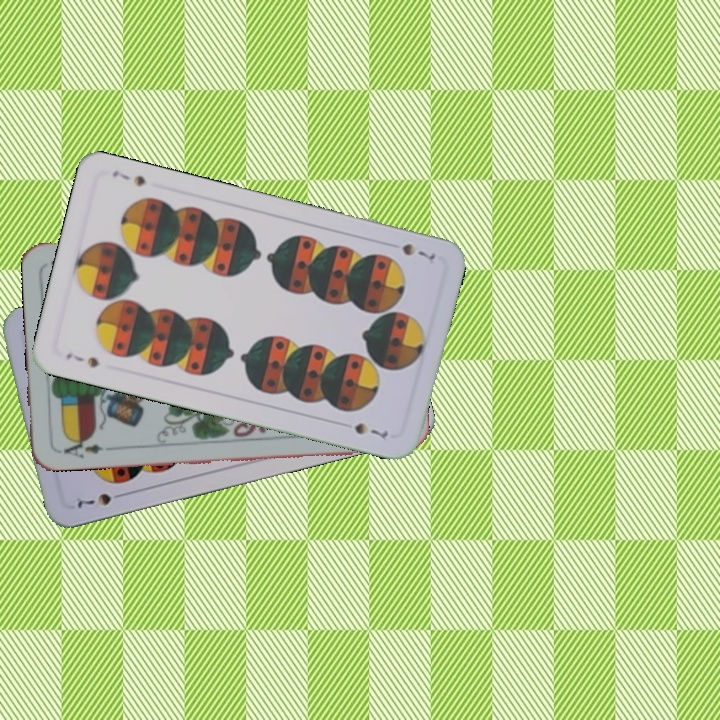EA: (54, 434, 113, 461)
S7: (73, 488, 128, 511), (398, 239, 438, 264), (62, 349, 101, 371)
